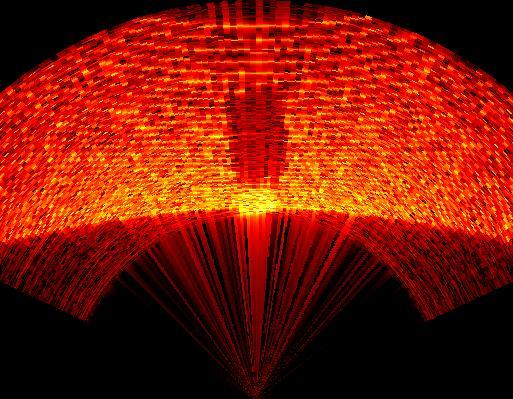box_crate: (226, 84, 286, 186)
